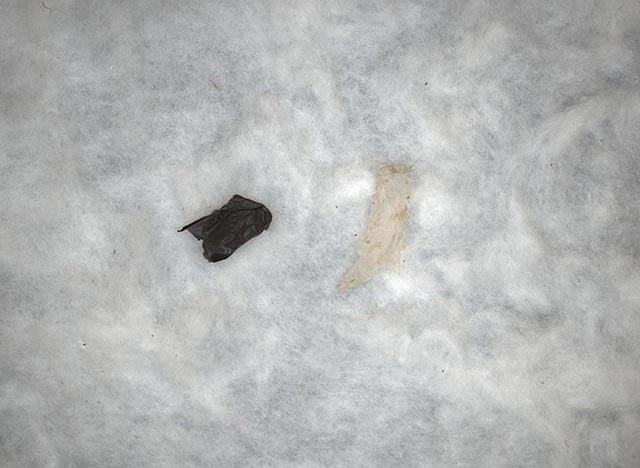plastic film: (337, 163, 411, 291), (175, 193, 274, 263)
